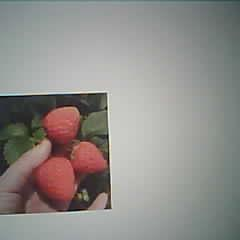straw-ripe: (34, 158, 74, 198), (43, 106, 79, 144), (72, 142, 107, 174)
